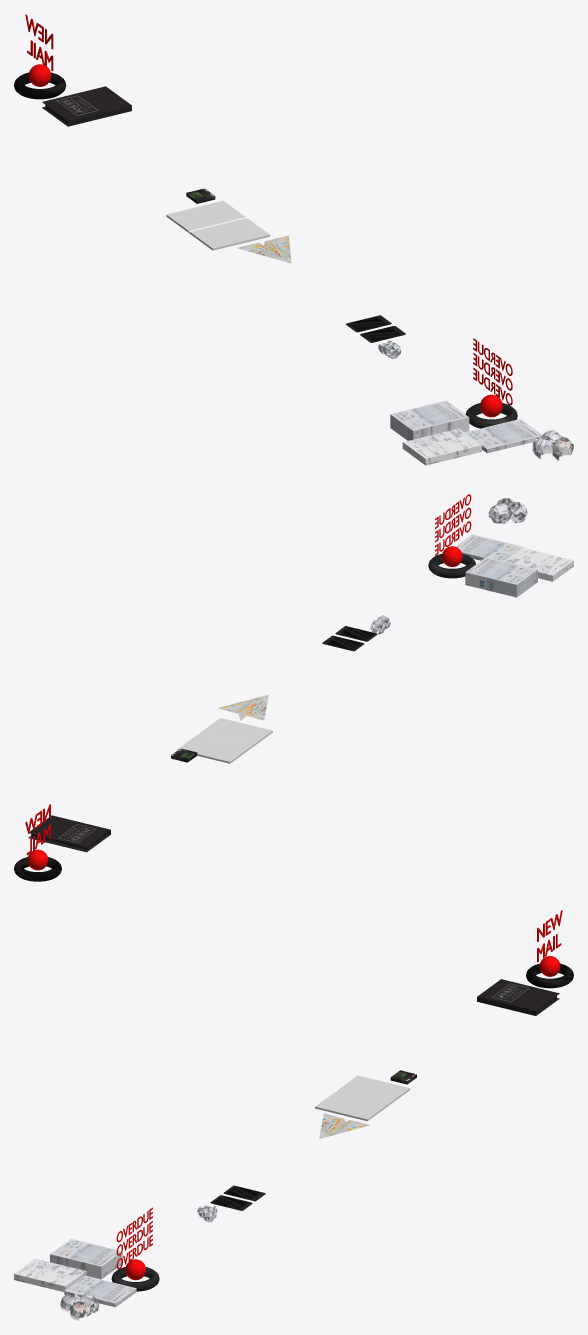
The model's file is CollectablesForMonday.fbx.
3 renders of one model, top to bottom at view 1: azimuth 30°, elevation 25°; view 2: azimuth 150°, elevation 25°; view 3: azimuth 330°, elevation 25°, orthographic. The views are drawn at different scales.
Parts seen in each view (by area): view 1: Cube.002, Cube.007, Cube.005, Cube.006, Cube.004, Torus.002, Plane.003, Torus.001, Text.004; view 2: Cube.002, Cube.005, Cube.007, Cube.006, Cube.004, Plane.003, Torus.002, Torus.001, Text.004; view 3: Cube.002, Cube.007, Cube.005, Cube.006, Cube.004, Torus.002, Plane.003, Torus.001.
Part boxes in pixels (<box>): Cube.002: <box>166,200,269,250</box>; Cube.007: <box>42,86,131,126</box>; Cube.005: <box>390,400,469,440</box>; Cube.006: <box>402,428,481,465</box>; Cube.004: <box>465,419,542,453</box>; Torus.002: <box>14,72,66,99</box>; Plane.003: <box>237,235,291,263</box>; Torus.001: <box>465,403,517,428</box>; Text.004: <box>25,14,53,71</box>; Cube.002: <box>177,718,272,763</box>; Cube.005: <box>465,557,537,597</box>; Cube.007: <box>28,815,110,852</box>; Cube.006: <box>504,548,573,581</box>; Cube.004: <box>455,534,523,560</box>; Plane.003: <box>218,694,268,720</box>; Torus.002: <box>14,857,61,881</box>; Torus.001: <box>428,553,475,578</box>; Text.004: <box>25,804,50,855</box>; Cube.002: <box>315,1075,410,1121</box>; Cube.007: <box>477,979,559,1015</box>; Cube.005: <box>50,1239,122,1279</box>; Cube.006: <box>14,1258,86,1291</box>; Cube.004: <box>64,1275,136,1307</box>; Torus.002: <box>526,963,573,988</box>; Plane.003: <box>319,1113,370,1138</box>; Torus.001: <box>111,1267,159,1291</box>.
Bounding box in the file's own units: 438 × 212 × 2963.
10 materials, 9 textured.
